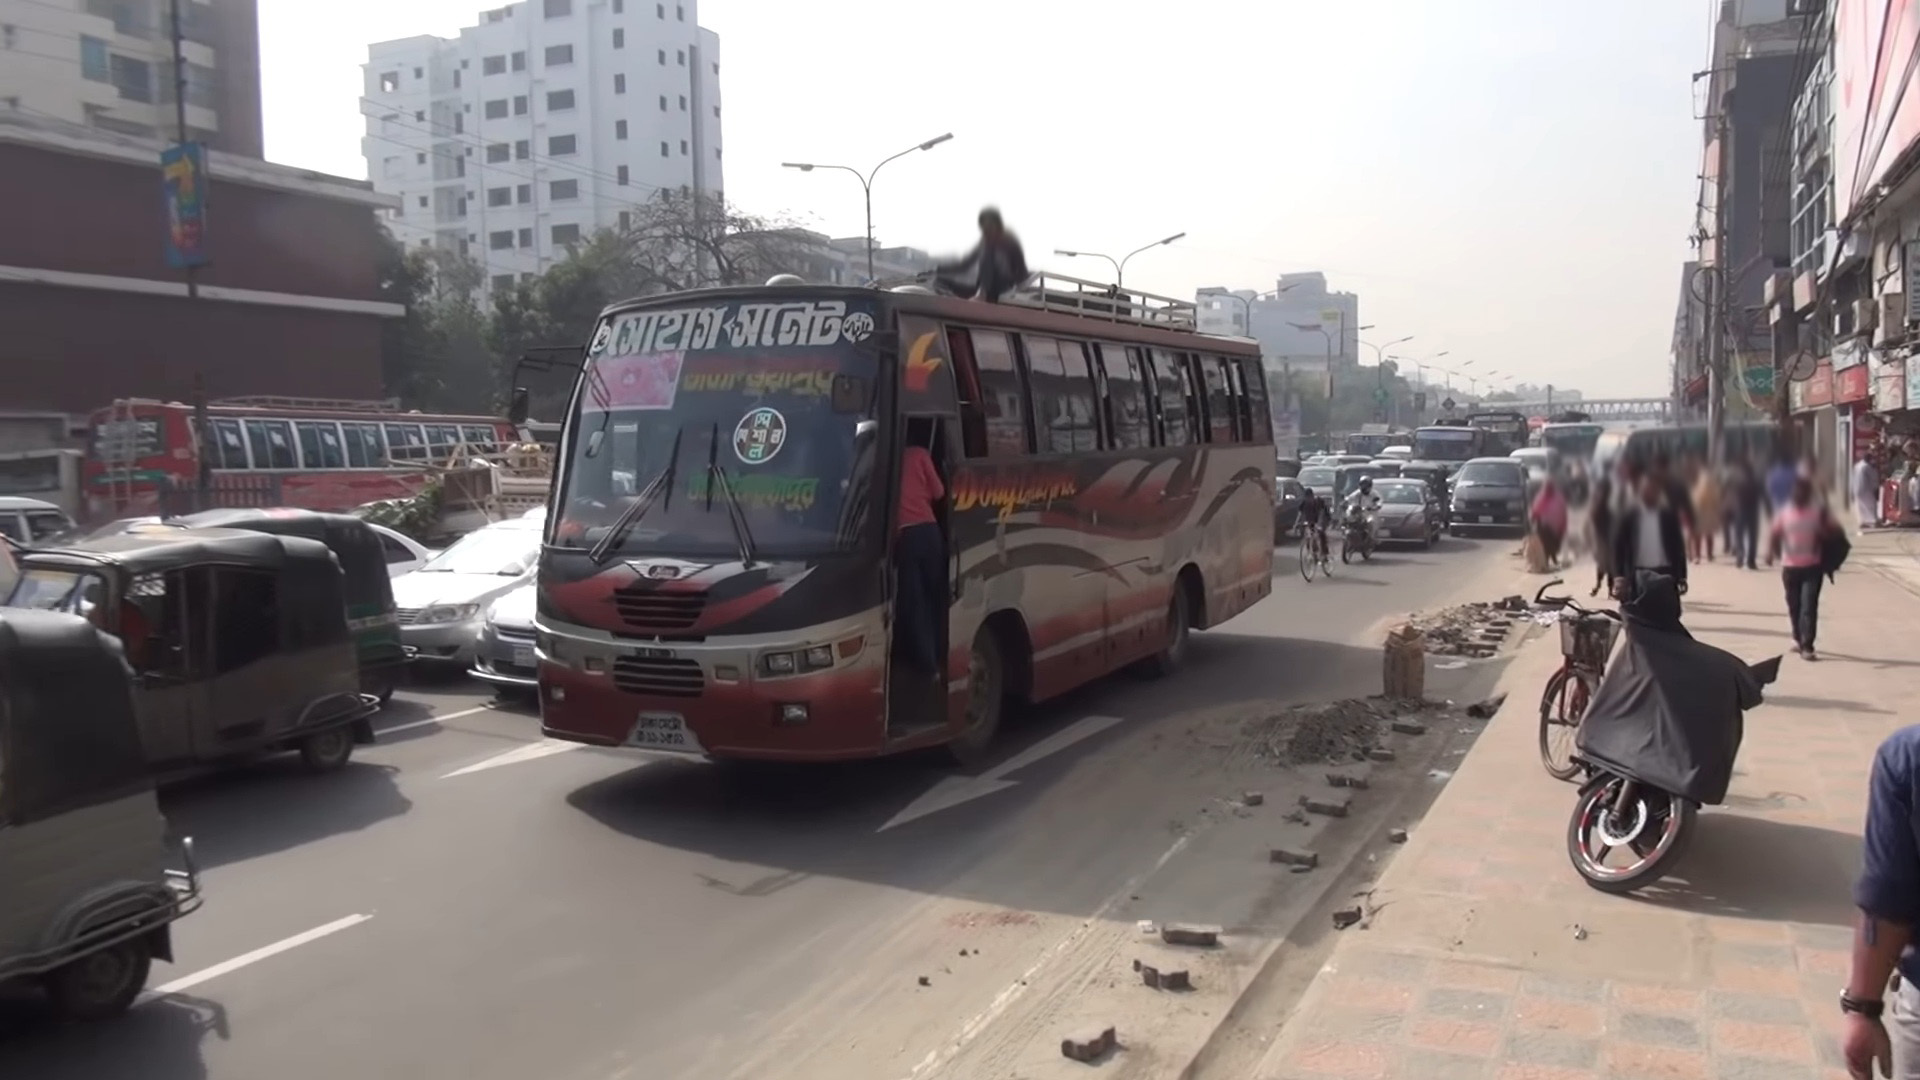bicycle: (1536, 576, 1629, 787), (1298, 527, 1338, 584)
bike: (1571, 637, 1774, 891), (1340, 514, 1393, 556)
bus: (535, 276, 1276, 770), (80, 405, 531, 520), (1590, 419, 1784, 476), (1418, 425, 1491, 465), (1540, 425, 1611, 448)
car: (401, 505, 547, 676), (469, 556, 535, 691), (1346, 476, 1440, 553), (1449, 459, 1536, 537), (1511, 447, 1572, 497)
cng: (13, 526, 384, 770), (1, 597, 199, 1004), (171, 502, 409, 709)
